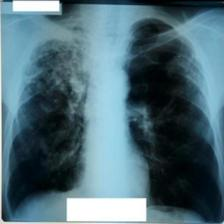tuberculosis: (0, 4, 224, 224)
